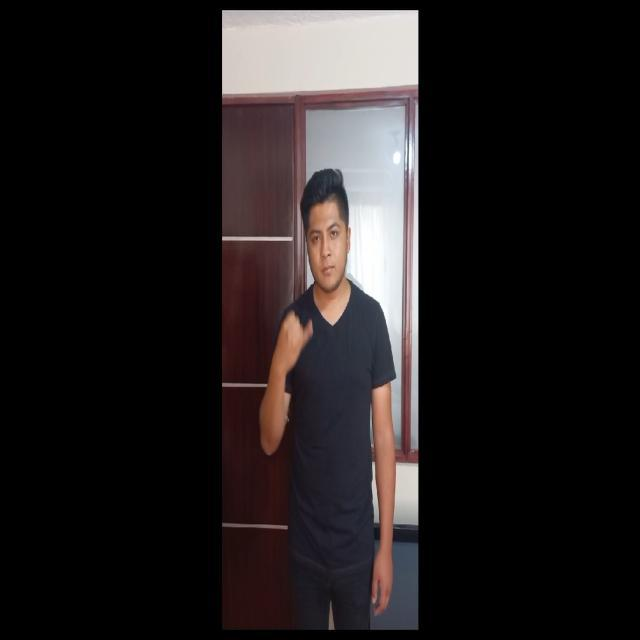J: (268, 300, 318, 392)
